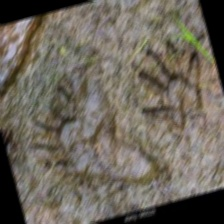raccoon: (122, 33, 218, 139)
